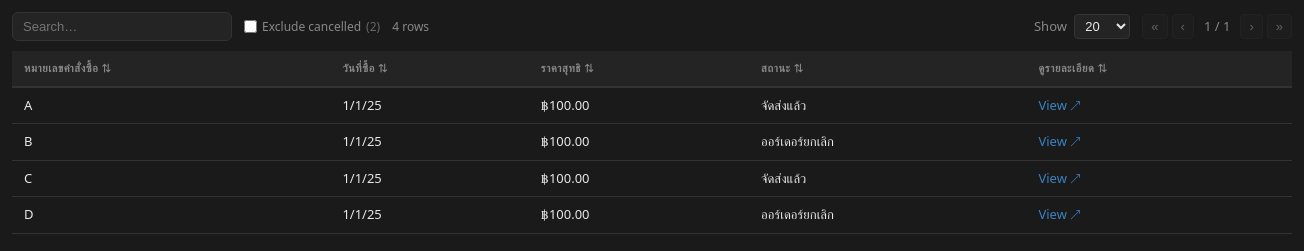
Test: exclude-cancelled checkbox › puts them back when unchecked
The width and height of the screenshot is (1304, 251).
Click the checkbox. click: (250, 26)
box: [244,20,257,33]
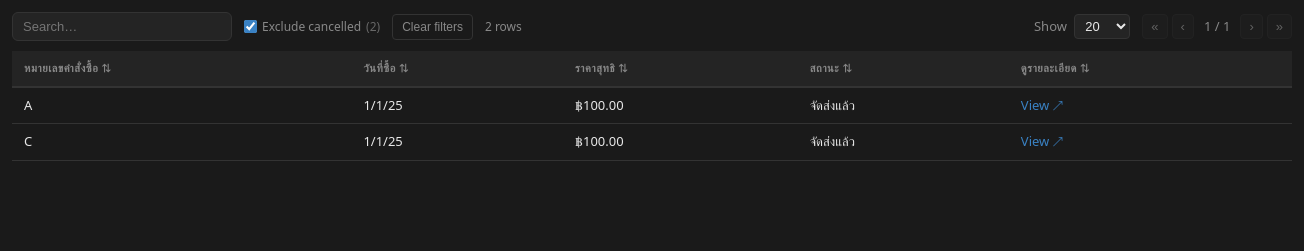
Click the checkbox. click: (250, 26)
box: [244,20,257,33]
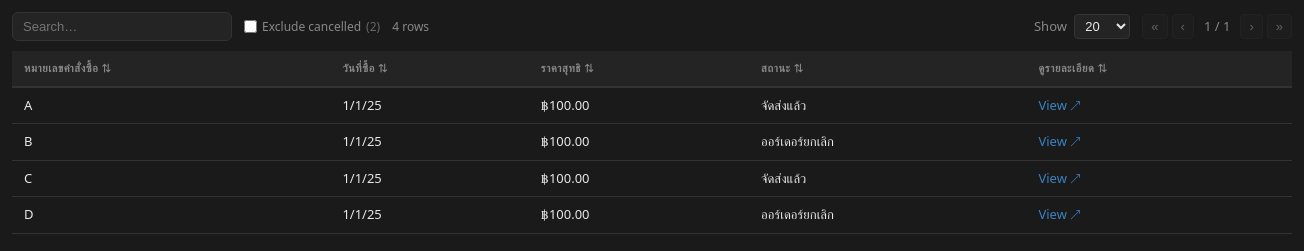
Check: the text "B" is shown, box [24,132,32,150]
